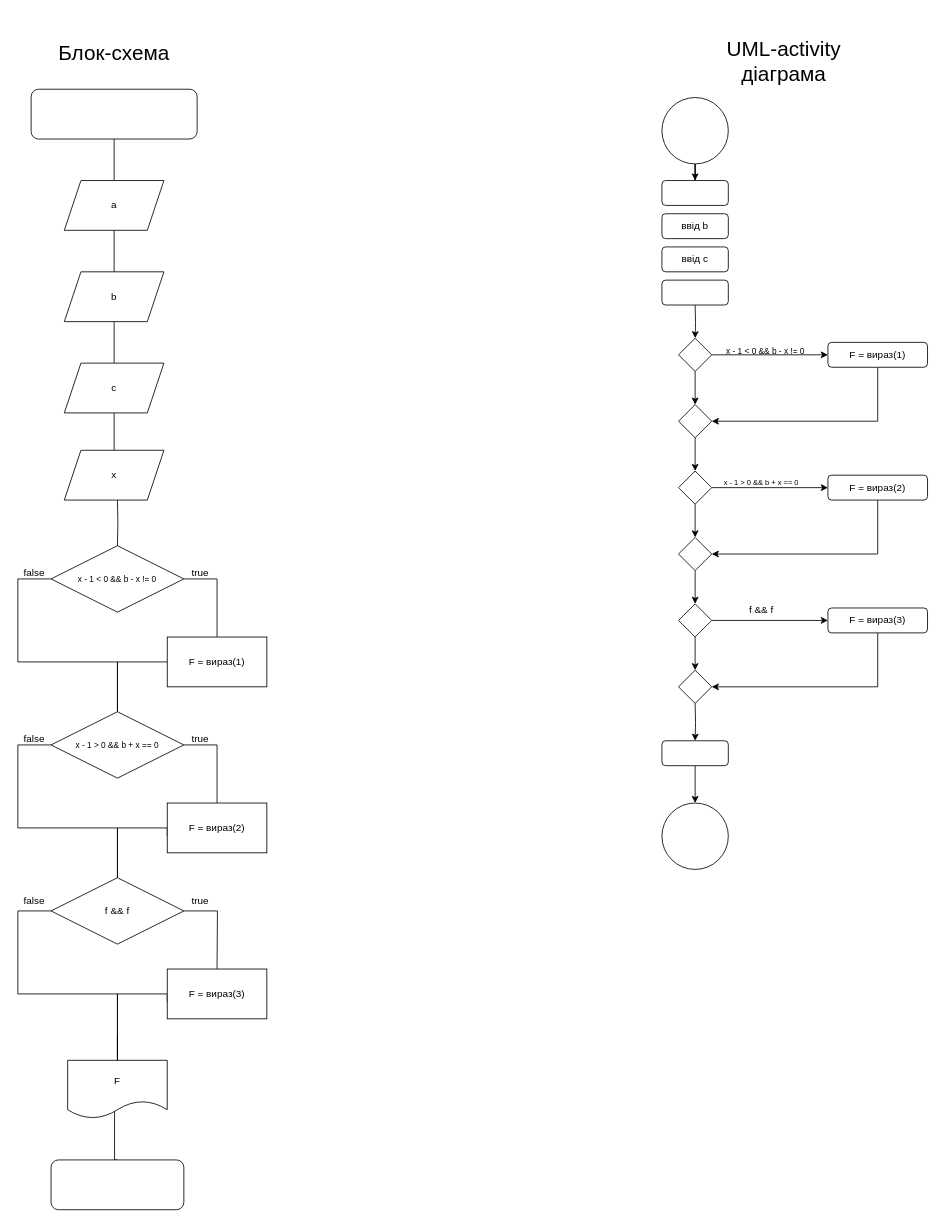
Image size: 942x1224. Some labels were removed from this diagram. The shapes that lost their labels are listed below. From the top down, each one's centre as x and y in pixels, then its label:
At (113,113): "Початок".
At (694,192): "ввід a".
At (694,292): "ввід x".
At (694,753): "вивід F".
At (117,1184): "Кінець".
